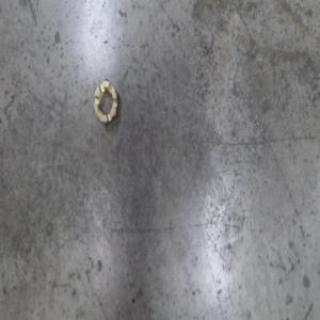Nuttrack_idkeyframe: (91, 74, 119, 124)
